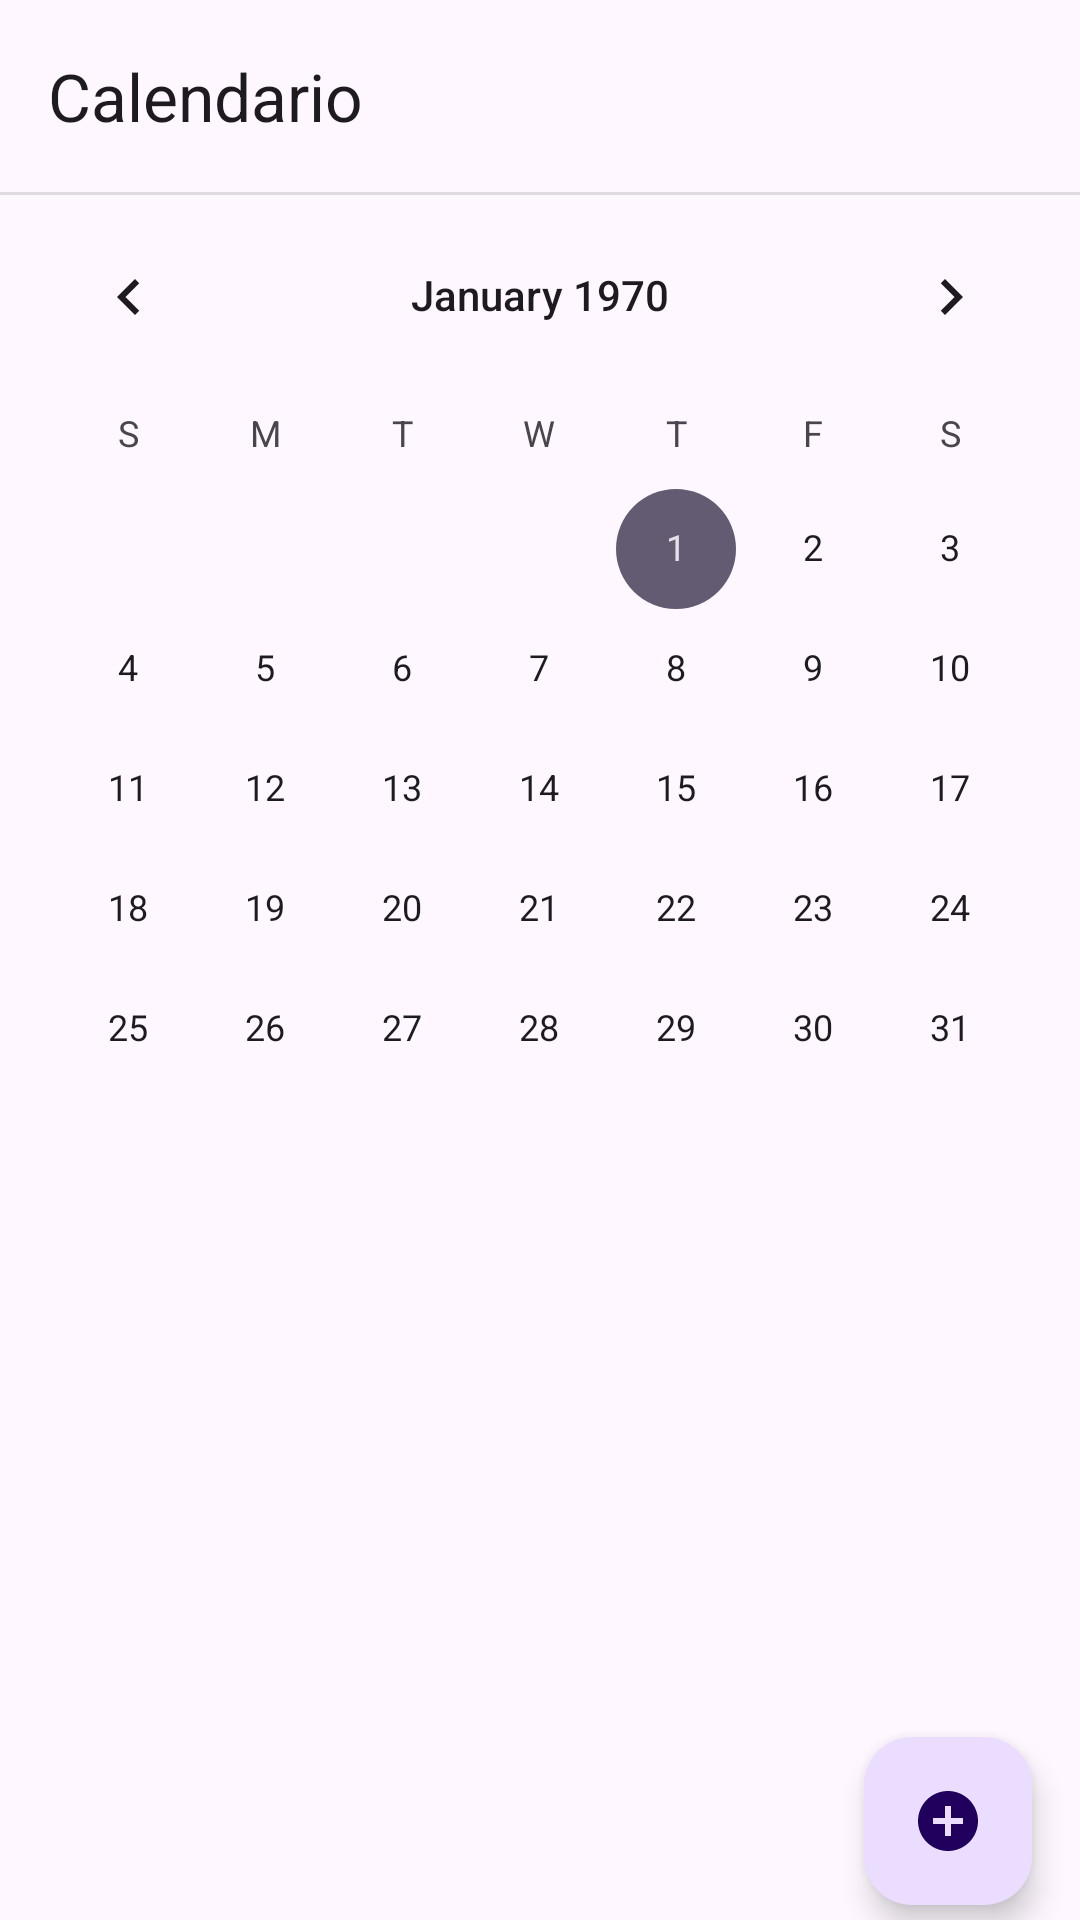

Icon click points for this 1080px×1920px phone screenshot, format point (x, y):
add: point (948, 1821)
